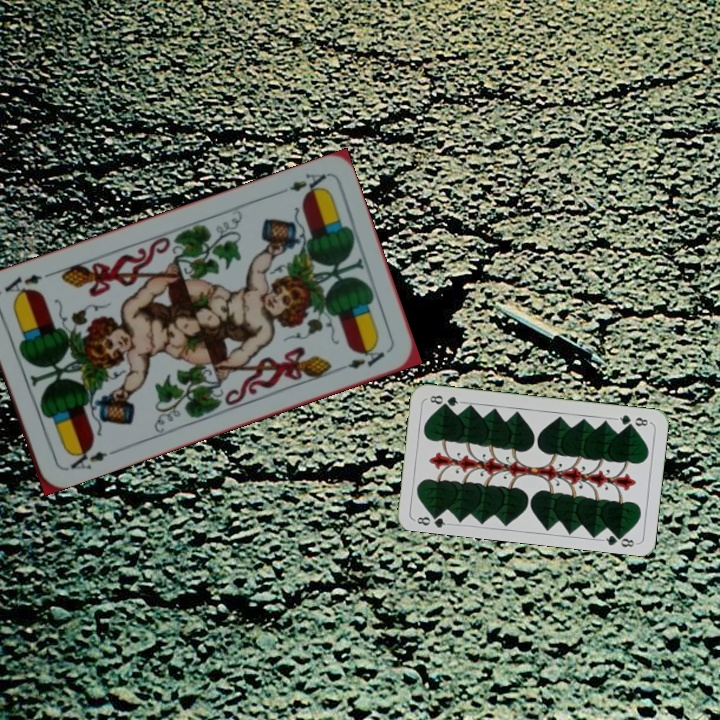EA: (61, 442, 119, 472), (285, 169, 329, 198)
G8: (411, 508, 452, 530), (612, 410, 652, 429)
